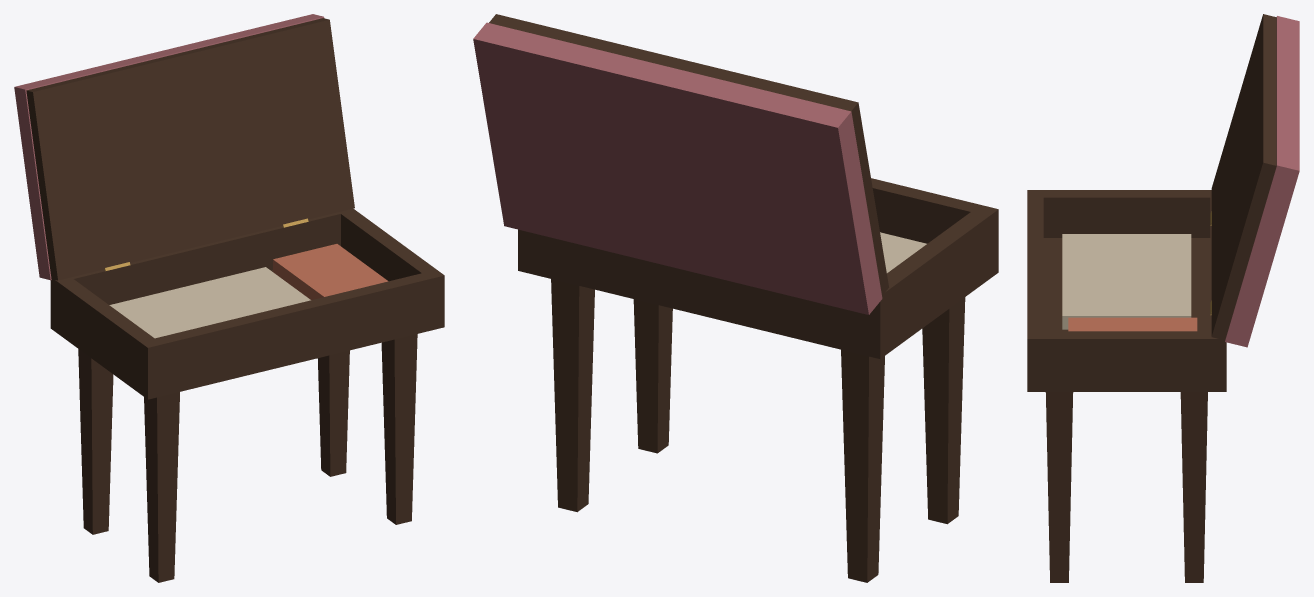
Rendered from FN_Stool_Piano.obj.
The picture shows the model from 3 angles, left to right: view 1: azimuth 30°, elevation 25°; view 2: azimuth 150°, elevation 25°; view 3: azimuth 270°, elevation 25°; orthographic projection. The views are drawn at different scales.
Visible parts, largest first — view 1: FN_Stool_Piano; view 2: FN_Stool_Piano; view 3: FN_Stool_Piano.
Boxes of the visible parts, x1=… form: FN_Stool_Piano: x1=14, y1=14, x2=444, y2=582; FN_Stool_Piano: x1=473, y1=14, x2=998, y2=582; FN_Stool_Piano: x1=1027, y1=14, x2=1299, y2=582.
Size of the model in its own units: 0.604 by 0.8115 by 0.4647.
1 material, 1 textured.
